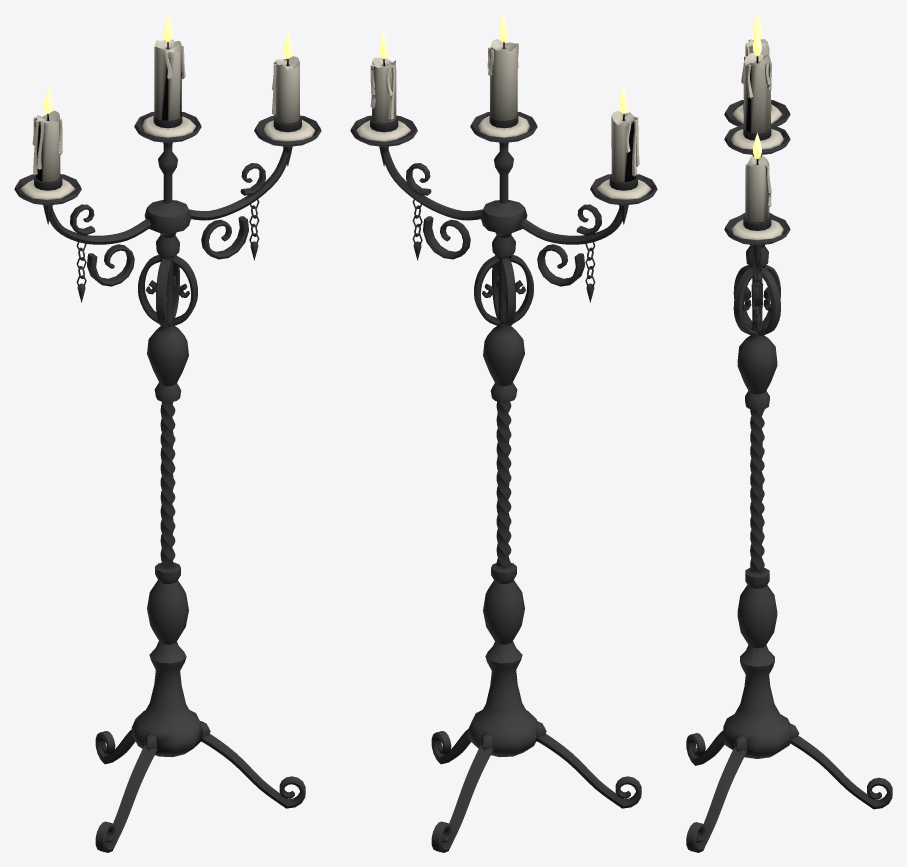
File: candelabra.glb
The picture shows the model from 3 angles, left to right: view 1: azimuth 30°, elevation 25°; view 2: azimuth 150°, elevation 25°; view 3: azimuth 270°, elevation 25°; orthographic projection.
Visible parts, largest first — view 1: candelabra; view 2: candelabra; view 3: candelabra.
Boxes of the visible parts, box(x1,y1,x2,y2) form: candelabra: box(14, 14, 321, 852); candelabra: box(350, 14, 657, 852); candelabra: box(686, 14, 892, 852).
Bounding box in the file's own units: 0.846 × 2.15 × 0.5162.
